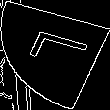L_E: (17, 32, 93, 78)
